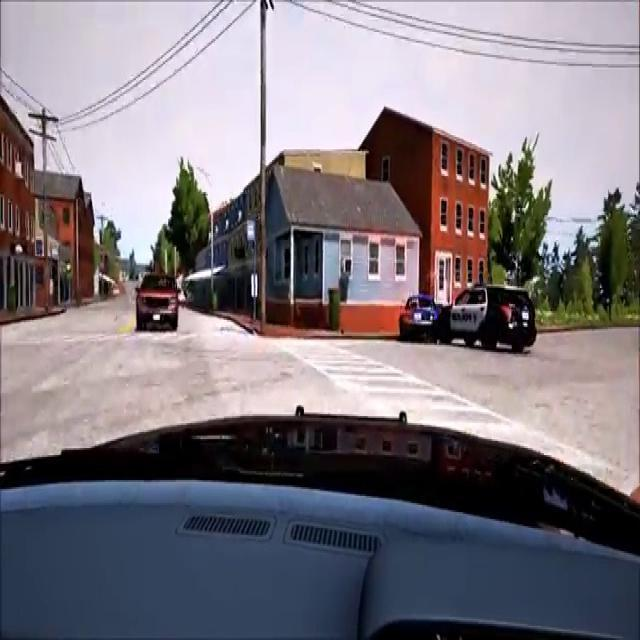accident: (396, 268, 540, 354)
